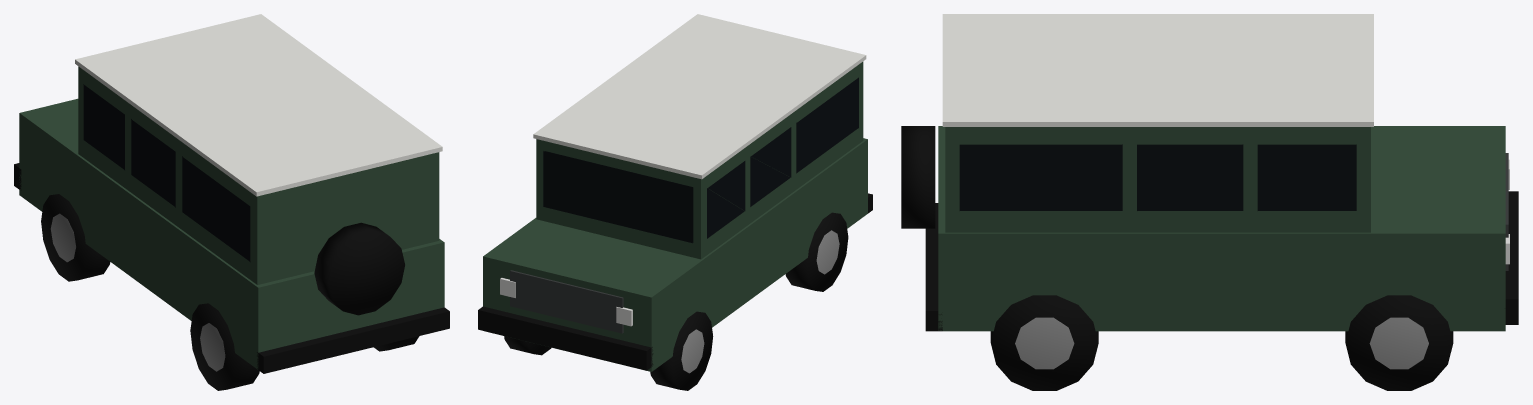
Rendered from vehicle.car.farm_4x4_0.glb.
3 views of the same model, side by side, from view 1: azimuth 30°, elevation 25°; view 2: azimuth 150°, elevation 25°; view 3: azimuth 270°, elevation 25° (orthographic). The views are drawn at different scales.
Parts seen in each view (by area): view 1: main__enamel_343, main__enamel_ddd, main__rubber, main__glass_dark, main__paint_999; view 2: main__enamel_343, main__enamel_ddd, main__glass_dark, main__rubber, main__paint_333, main__paint_999, main__paint_eed; view 3: main__enamel_343, main__enamel_ddd, main__glass_dark, main__rubber, main__paint_999.
Part boxes in pixels (x1=…): main__enamel_343: x1=19, y1=66, x2=444, y2=369; main__enamel_ddd: x1=75, y1=14, x2=442, y2=196; main__rubber: x1=14, y1=163, x2=449, y2=390; main__glass_dark: x1=83, y1=84, x2=250, y2=262; main__paint_999: x1=50, y1=213, x2=225, y2=371; main__enamel_343: x1=483, y1=61, x2=867, y2=371; main__enamel_ddd: x1=533, y1=14, x2=866, y2=179; main__glass_dark: x1=543, y1=77, x2=858, y2=243; main__rubber: x1=478, y1=193, x2=872, y2=390; main__paint_333: x1=510, y1=270, x2=623, y2=333; main__paint_999: x1=681, y1=230, x2=839, y2=373; main__paint_eed: x1=500, y1=278, x2=632, y2=326; main__enamel_343: x1=938, y1=126, x2=1505, y2=331; main__enamel_ddd: x1=942, y1=14, x2=1373, y2=126; main__glass_dark: x1=959, y1=144, x2=1356, y2=210; main__rubber: x1=901, y1=126, x2=1518, y2=390; main__paint_999: x1=1015, y1=317, x2=1428, y2=369.
Bounding box in the file's own units: 1.82 × 2.09 × 4.35.
